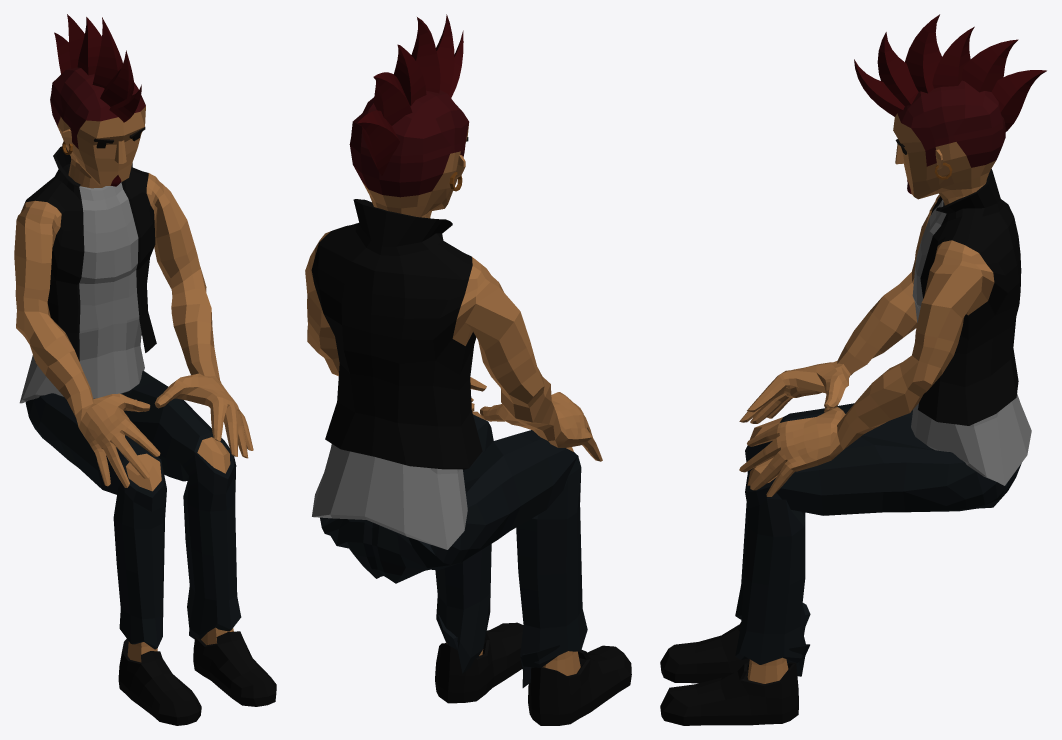
File: m_punk.obj
The picture shows the model from 3 angles, left to right: view 1: azimuth 30°, elevation 25°; view 2: azimuth 150°, elevation 25°; view 3: azimuth 270°, elevation 25°; orthographic projection. The views are drawn at different scales.
Parts seen in each view (by area): view 1: Punk_Body, Punk_Legs, Punk_Head, Punk_Feet; view 2: Punk_Body, Punk_Legs, Punk_Head, Punk_Feet; view 3: Punk_Body, Punk_Legs, Punk_Head, Punk_Feet.
Boxes of the visible parts, box(x1,y1,x2,y2) form: Punk_Body: box(14, 146, 253, 487); Punk_Legs: box(25, 371, 241, 649); Punk_Head: box(50, 14, 145, 188); Punk_Feet: box(118, 627, 276, 725); Punk_Body: box(305, 199, 602, 549); Punk_Legs: box(320, 411, 587, 687); Punk_Head: box(349, 14, 469, 218); Punk_Feet: box(435, 622, 631, 725); Punk_Body: box(739, 169, 1031, 496); Punk_Legs: box(735, 403, 1021, 676); Punk_Head: box(854, 14, 1046, 205); Punk_Feet: box(660, 622, 798, 725).
Size of the model in its own units: 0.4972 by 1.53 by 0.7913.
